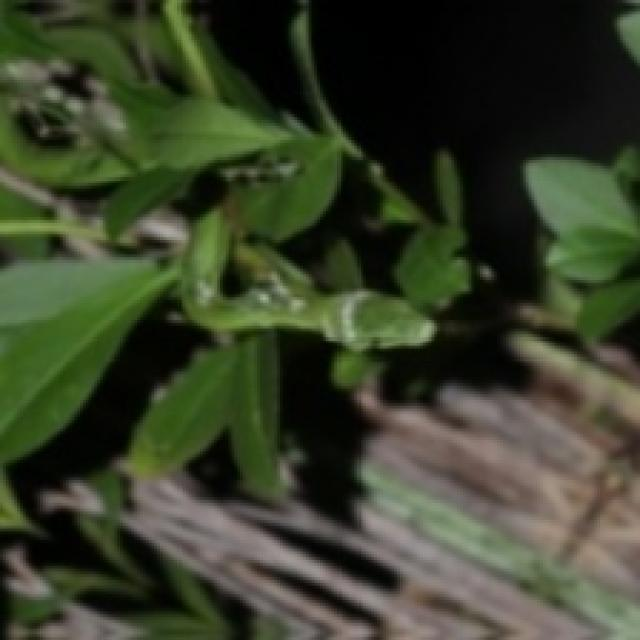red-tailed green ratsnake: (180, 200, 435, 349)
